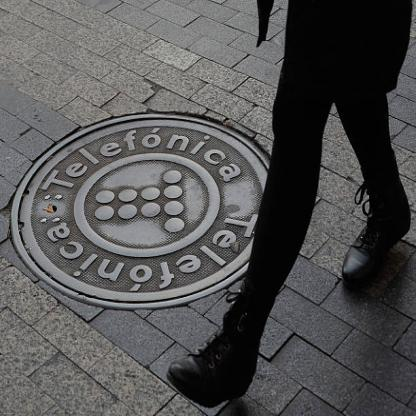manholes: (4, 103, 284, 312)
